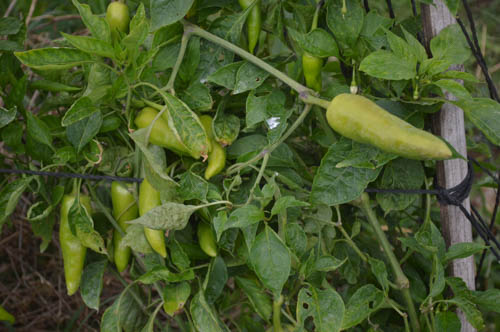ChiliPepper: (326, 93, 452, 163), (60, 197, 91, 292), (106, 181, 135, 266), (138, 177, 166, 258), (134, 108, 181, 149), (198, 113, 227, 178), (302, 57, 326, 89), (198, 223, 216, 255), (106, 4, 127, 31)
